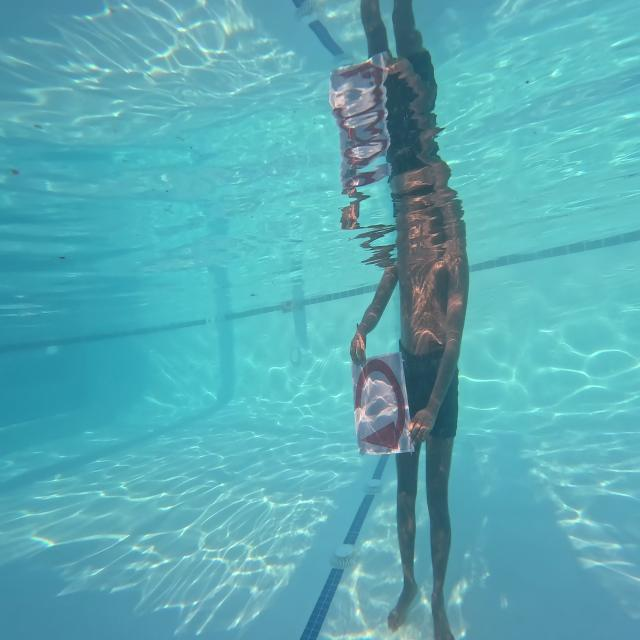red_side: (349, 352, 412, 462)
